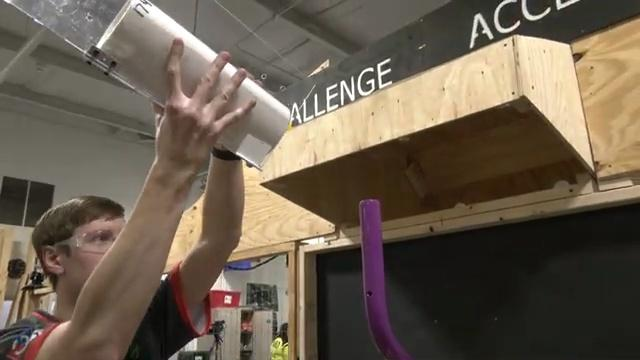CORAL: (93, 0, 292, 168)
